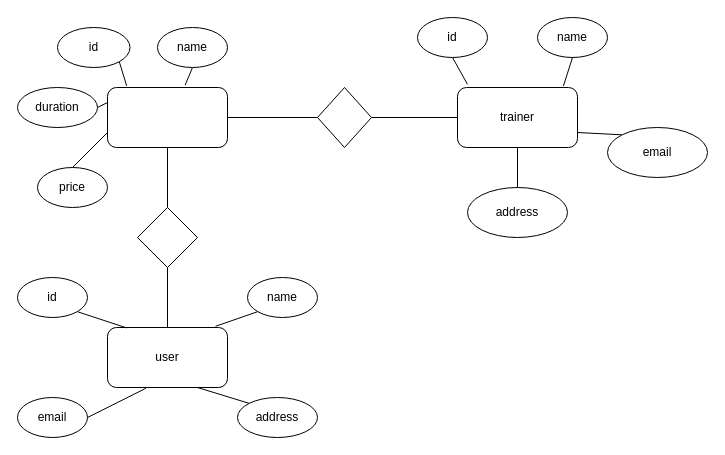
Some shapes in this 725 by 455 pixel diagram are drawn without their labels. Here are the shapes that lost their labels. From the top down, the centre of each, then its label:
point (167, 117): course
point (344, 117): has
point (167, 237): books
